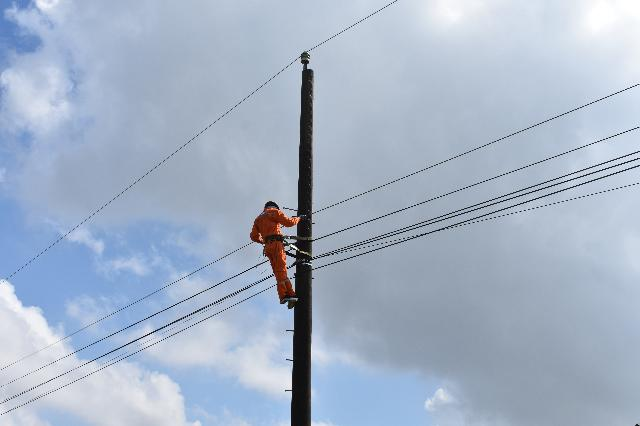gloves: (297, 212, 307, 222)
harness: (262, 232, 307, 248)
helmet: (264, 199, 282, 212)
shoes: (276, 293, 296, 304), (287, 295, 300, 309)
